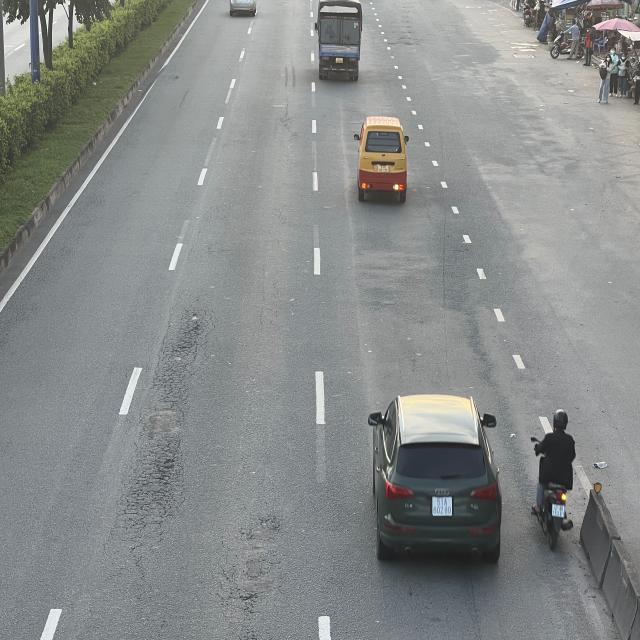car: (368, 398, 502, 570)
truck: (318, 0, 365, 79)
van: (354, 116, 408, 202)
